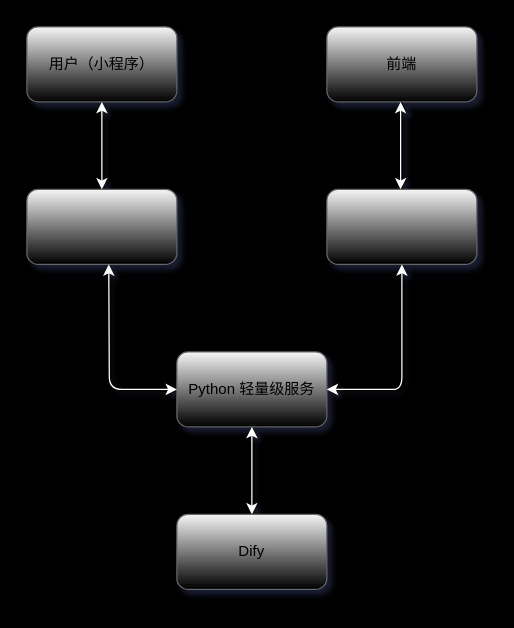
Image size: 514x628. Some labels were removed from this diagram. The centre of each missing label's shape, as x and y in pixels:
宴荟佳: the point at 402,228
易订: the point at 102,228
